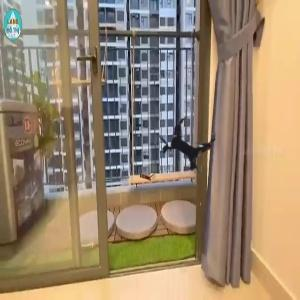drone: (134, 95, 237, 198)
